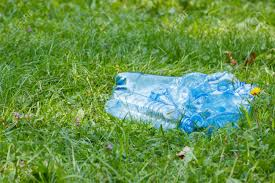plastic_bottle: (109, 92, 180, 130)
